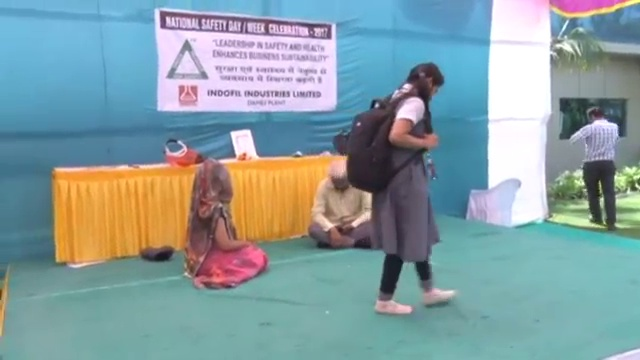helmet_off: (193, 162, 234, 204), (408, 62, 445, 102), (328, 160, 353, 193), (585, 105, 607, 124)
person: (345, 62, 459, 315), (182, 161, 269, 290), (569, 104, 623, 234), (307, 158, 382, 249)
